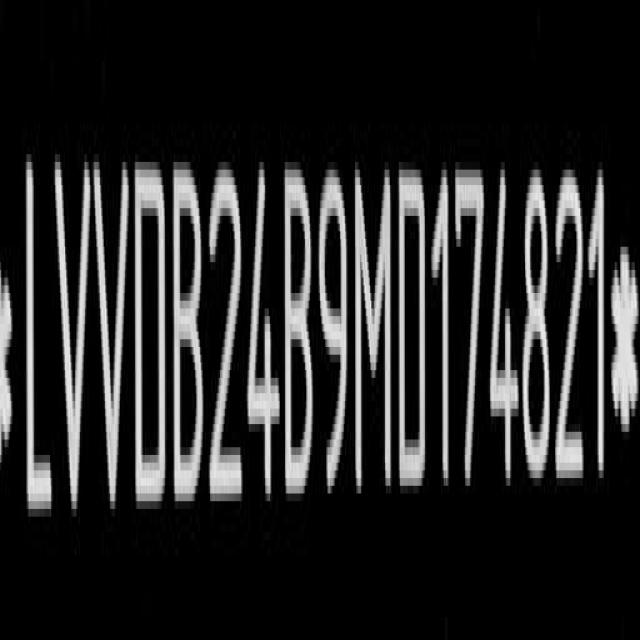1: (430, 174, 454, 497), (588, 177, 610, 491)
2: (206, 157, 246, 520), (554, 157, 588, 497)
4: (244, 154, 283, 526), (488, 160, 521, 503)
7: (454, 160, 484, 497)
8: (522, 177, 553, 488)
9: (318, 162, 352, 502)
B: (280, 154, 315, 526), (172, 148, 206, 508)
D: (133, 148, 169, 520), (398, 151, 430, 503)
L: (21, 140, 55, 523)
M: (354, 157, 395, 506)
V: (54, 146, 92, 534), (94, 145, 130, 522)
